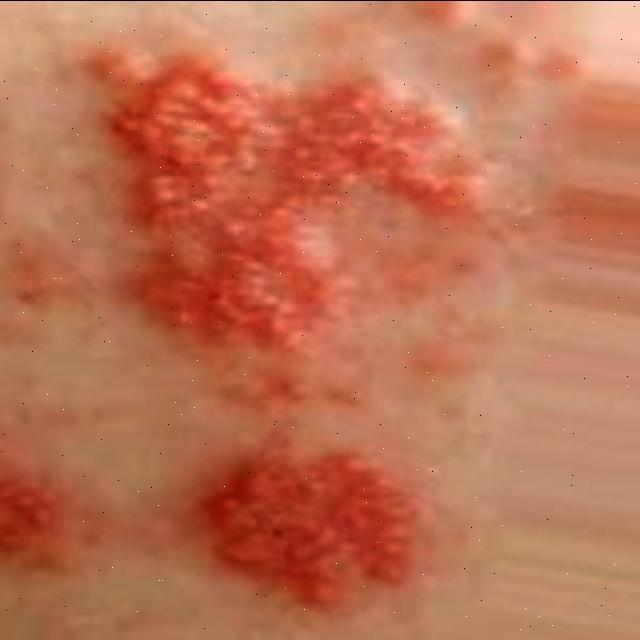Shingles: (84, 31, 496, 408), (194, 440, 420, 614), (0, 465, 80, 581)
